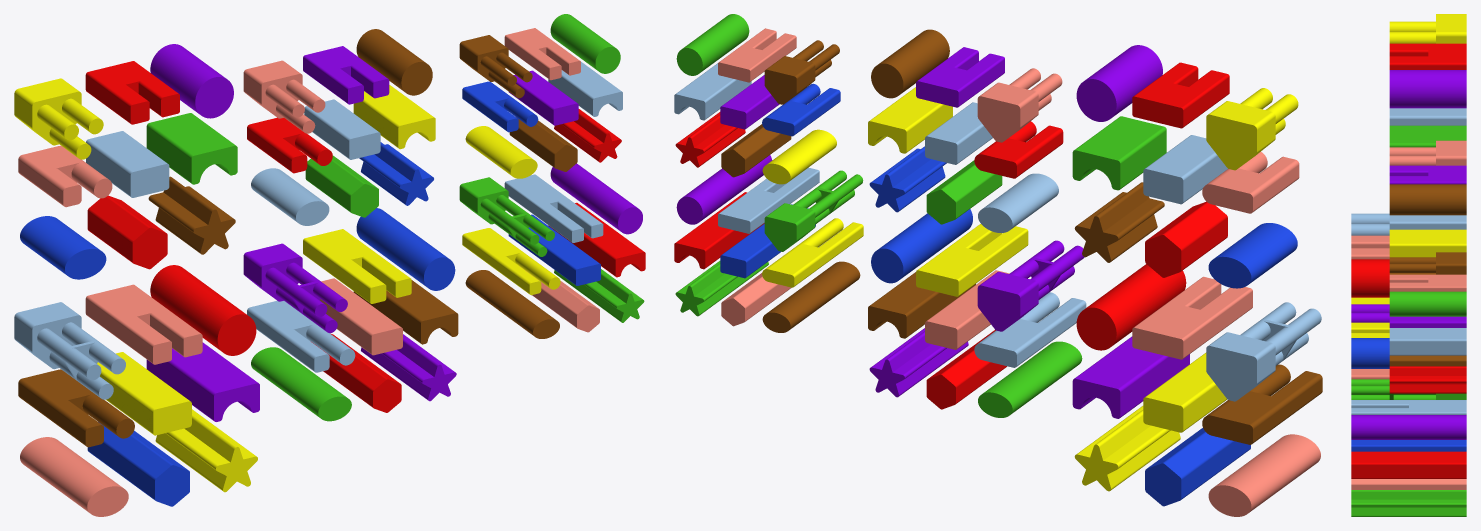
Rendered from peg.obj.
The picture shows the model from 3 angles, left to right: view 1: azimuth 30°, elevation 25°; view 2: azimuth 150°, elevation 25°; view 3: azimuth 270°, elevation 25°; orthographic projection. The views are drawn at different scales.
Parts seen in each view (by area): view 1: obj2, obj6, obj3, obj7, obj1, obj4, obj8, obj5; view 2: obj2, obj6, obj7, obj3, obj1, obj4, obj5, obj8; view 3: obj7, obj1, obj5, obj3, obj6, obj2, obj4, obj8.
Boxes of the visible parts, left/top/right/bottom form: obj2: left=14, top=78, right=560, bottom=492; obj6: left=18, top=28, right=599, bottom=516; obj3: left=14, top=62, right=622, bottom=399; obj7: left=146, top=44, right=642, bottom=421; obj1: left=85, top=61, right=645, bottom=412; obj4: left=18, top=29, right=577, bottom=447; obj8: left=20, top=81, right=600, bottom=506; obj5: left=146, top=14, right=644, bottom=421; obj2: left=762, top=87, right=1298, bottom=491; obj6: left=718, top=28, right=1320, bottom=516; obj7: left=676, top=45, right=1189, bottom=418; obj3: left=674, top=63, right=1321, bottom=401; obj1: left=674, top=62, right=1229, bottom=409; obj4: left=721, top=29, right=1322, bottom=444; obj5: left=675, top=14, right=1166, bottom=417; obj8: left=720, top=83, right=1297, bottom=506; obj7: left=1351, top=70, right=1466, bottom=439; obj1: left=1351, top=43, right=1466, bottom=478; obj5: left=1351, top=125, right=1466, bottom=516; obj3: left=1351, top=108, right=1466, bottom=414; obj6: left=1351, top=140, right=1466, bottom=489; obj2: left=1351, top=14, right=1466, bottom=337; obj4: left=1389, top=184, right=1466, bottom=366; obj8: left=1351, top=338, right=1466, bottom=451.
Bounding box in the file's own units: 725 × 488 × 150.
